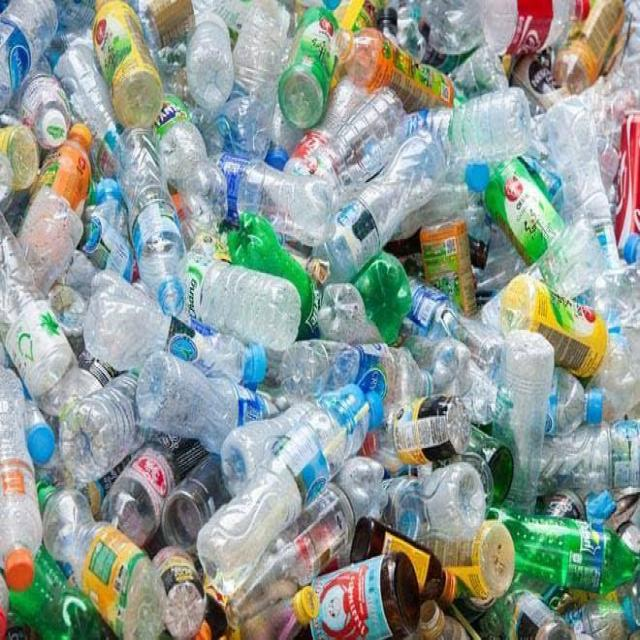plastic_bottle: (198, 379, 376, 606), (29, 472, 166, 640), (538, 99, 633, 315), (114, 115, 195, 327), (204, 131, 343, 254), (169, 242, 305, 363), (5, 211, 77, 434), (488, 325, 558, 534), (171, 249, 310, 353), (499, 510, 639, 613), (16, 120, 97, 290), (401, 83, 543, 178), (345, 515, 481, 613), (502, 267, 613, 385), (86, 4, 185, 136), (301, 550, 435, 640), (414, 188, 500, 322), (335, 22, 458, 106), (4, 371, 47, 586), (280, 2, 345, 137), (65, 372, 144, 477), (145, 538, 223, 640), (549, 4, 635, 95), (78, 278, 160, 368), (158, 453, 221, 570), (111, 436, 175, 550), (387, 396, 480, 474), (1, 1, 63, 115), (484, 161, 562, 249), (548, 423, 640, 492), (243, 3, 297, 117), (357, 248, 409, 349), (561, 574, 640, 640), (19, 72, 81, 156), (555, 360, 608, 456), (191, 23, 246, 114), (490, 585, 575, 640), (320, 283, 382, 346), (216, 405, 259, 493), (421, 595, 470, 640)
